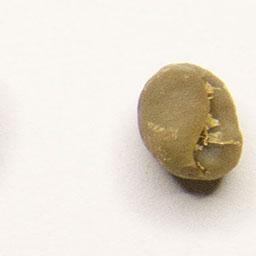peaberry: (132, 59, 246, 184)
